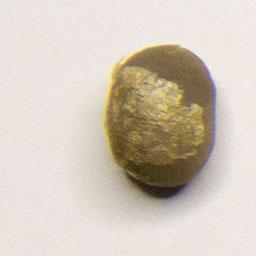peaberry: (100, 41, 219, 192)
